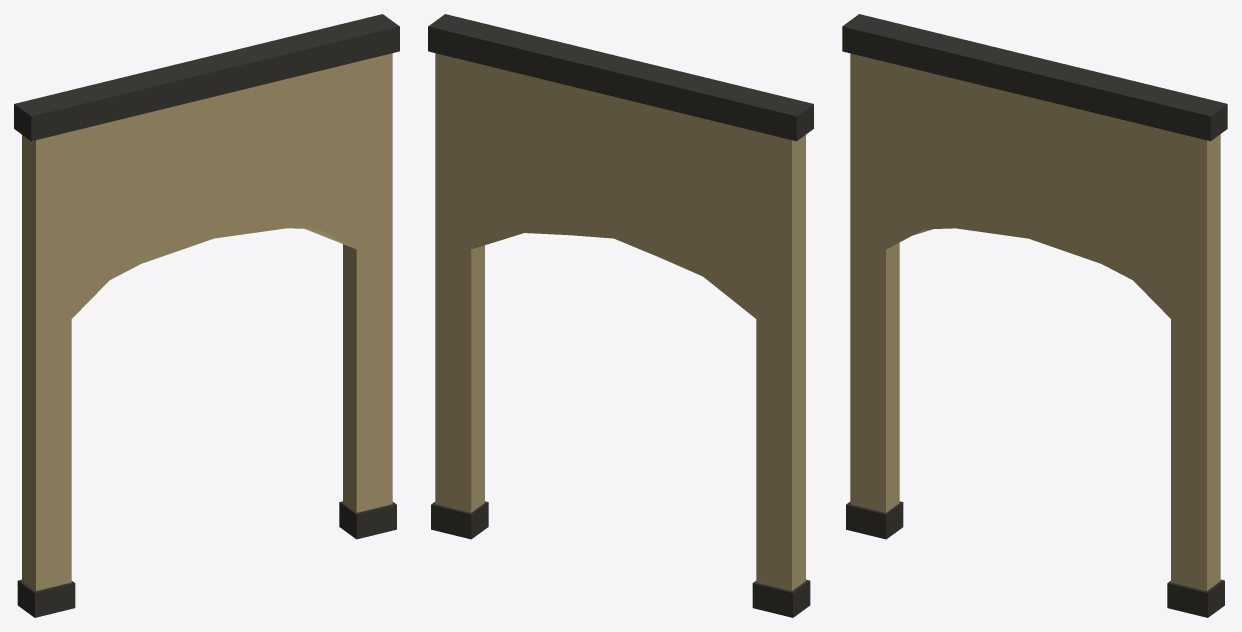
File: wall arch (DoNotUse).fbx
3 views of the same model, side by side, from view 1: azimuth 30°, elevation 25°; view 2: azimuth 150°, elevation 25°; view 3: azimuth 330°, elevation 25° (orthographic).
Visible parts, largest first — view 1: pCube14; view 2: pCube14; view 3: pCube14.
Part boxes in pixels (x1,y1,x2,y2): pCube14: [14, 14, 399, 617]; pCube14: [428, 14, 813, 617]; pCube14: [842, 14, 1227, 617].
Size of the model in its own units: 15.5 by 20.18 by 1.24.
